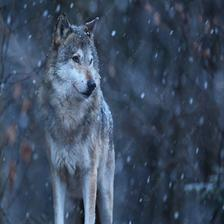WOLF: (46, 13, 114, 224)
